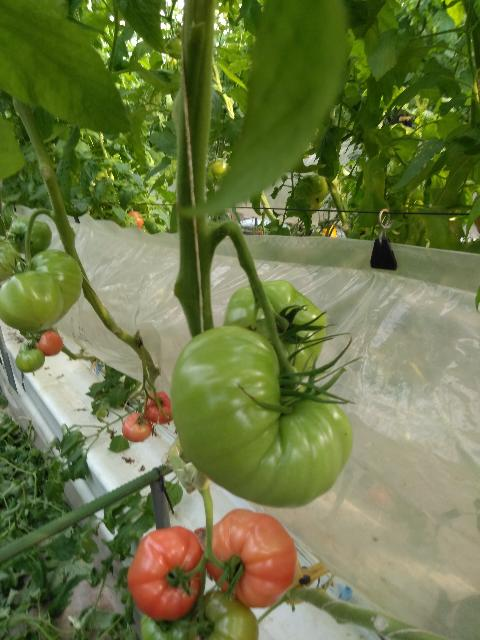b_fully_ripened: (126, 526, 206, 622), (143, 392, 174, 425)
b_green: (171, 325, 352, 509), (221, 280, 328, 380), (23, 248, 82, 324), (1, 271, 63, 332), (188, 590, 259, 640), (141, 600, 197, 640), (8, 216, 53, 255), (15, 347, 45, 373)
b_half_ripened: (204, 508, 297, 607), (122, 412, 153, 443), (36, 330, 63, 356)
